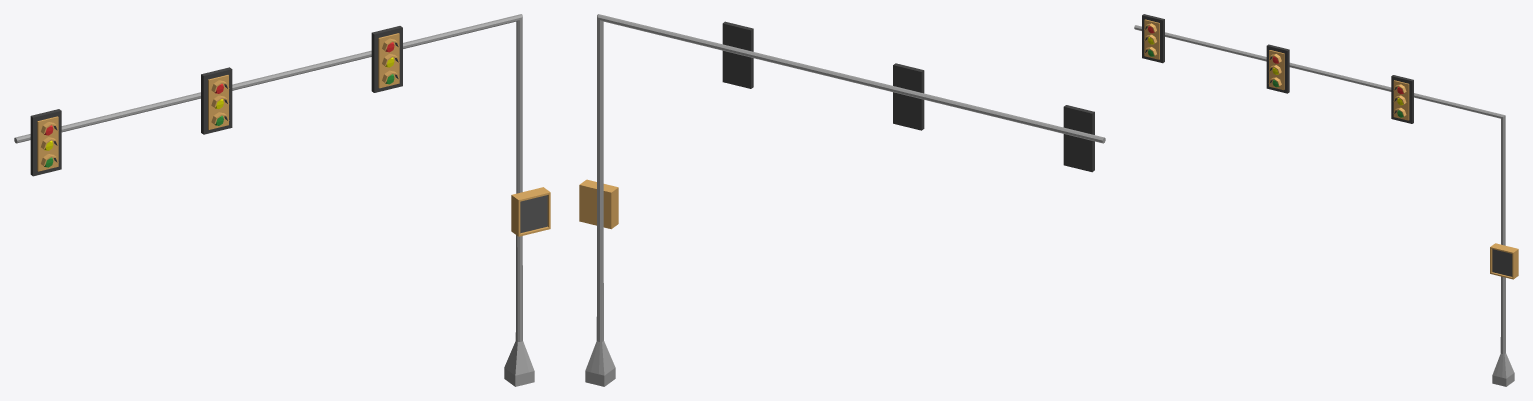
Rendered from TrafficLight.fbx.
The picture shows the model from 3 angles, left to right: view 1: azimuth 30°, elevation 25°; view 2: azimuth 150°, elevation 25°; view 3: azimuth 330°, elevation 25°; orthographic projection. The views are drawn at different scales.
Visible parts, largest first — view 1: pCube14; view 2: pCube14; view 3: pCube14.
Part boxes in pixels (bbox=[...]): pCube14: bbox=[14, 14, 550, 386]; pCube14: bbox=[579, 14, 1105, 386]; pCube14: bbox=[1134, 14, 1518, 386].
Size of the model in its own units: 617 by 432 by 29.19.
